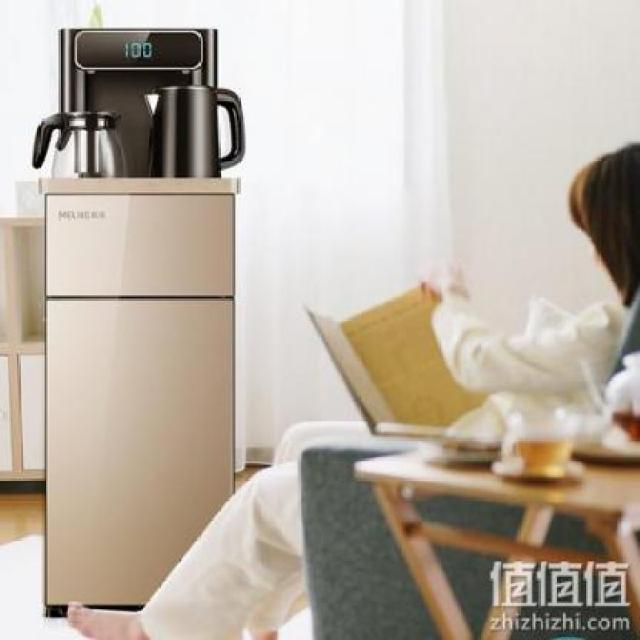cooler: (37, 24, 243, 618)
